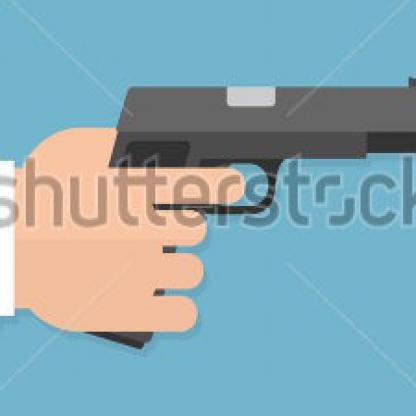gun: (69, 69, 414, 355)
